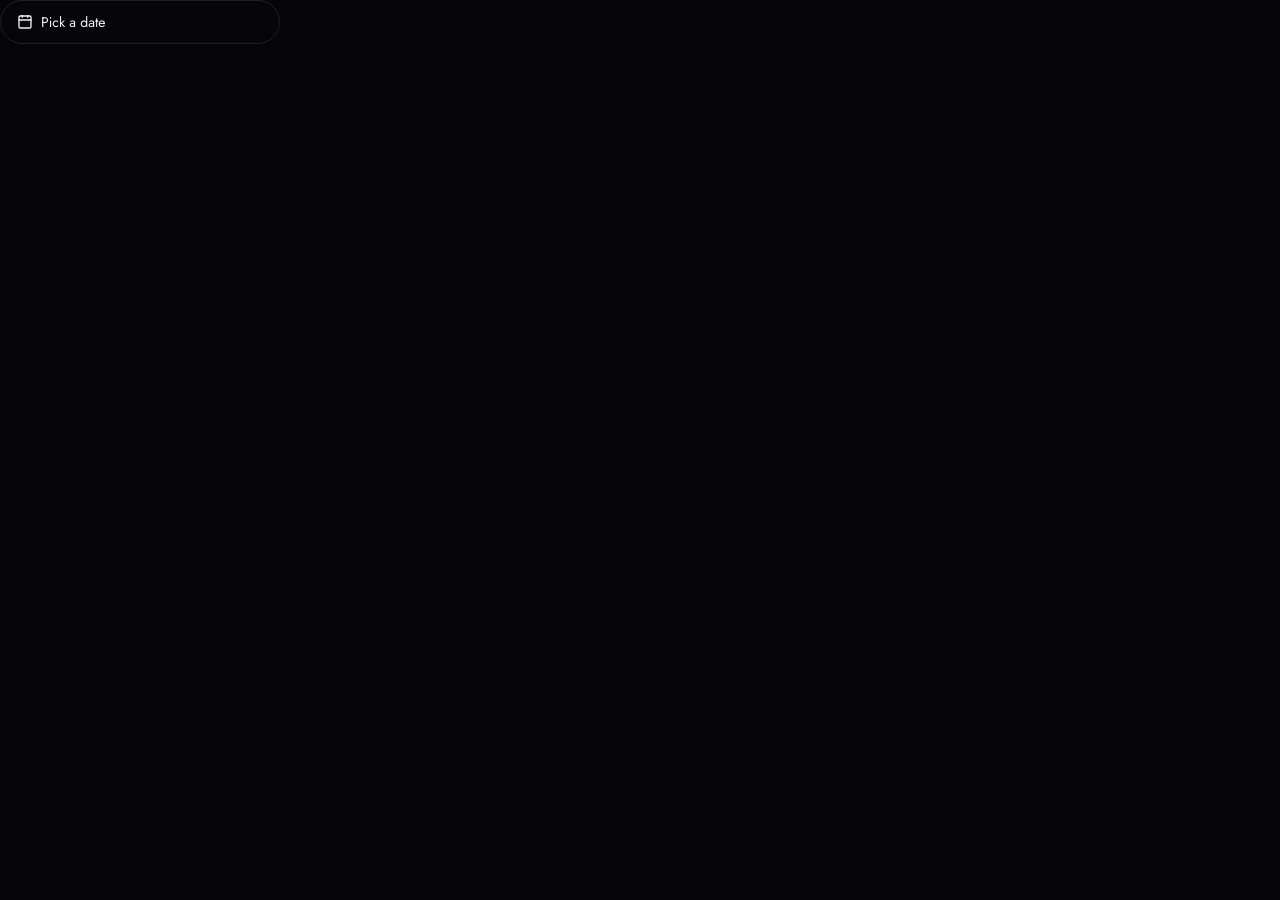
Test: DatePicker › clears back to blank in a fully controlled picker that started with no value
The width and height of the screenshot is (1280, 900).
Click the dropdown.
click(73, 22)  # box top-left (0, 0), bottom-right (280, 44)
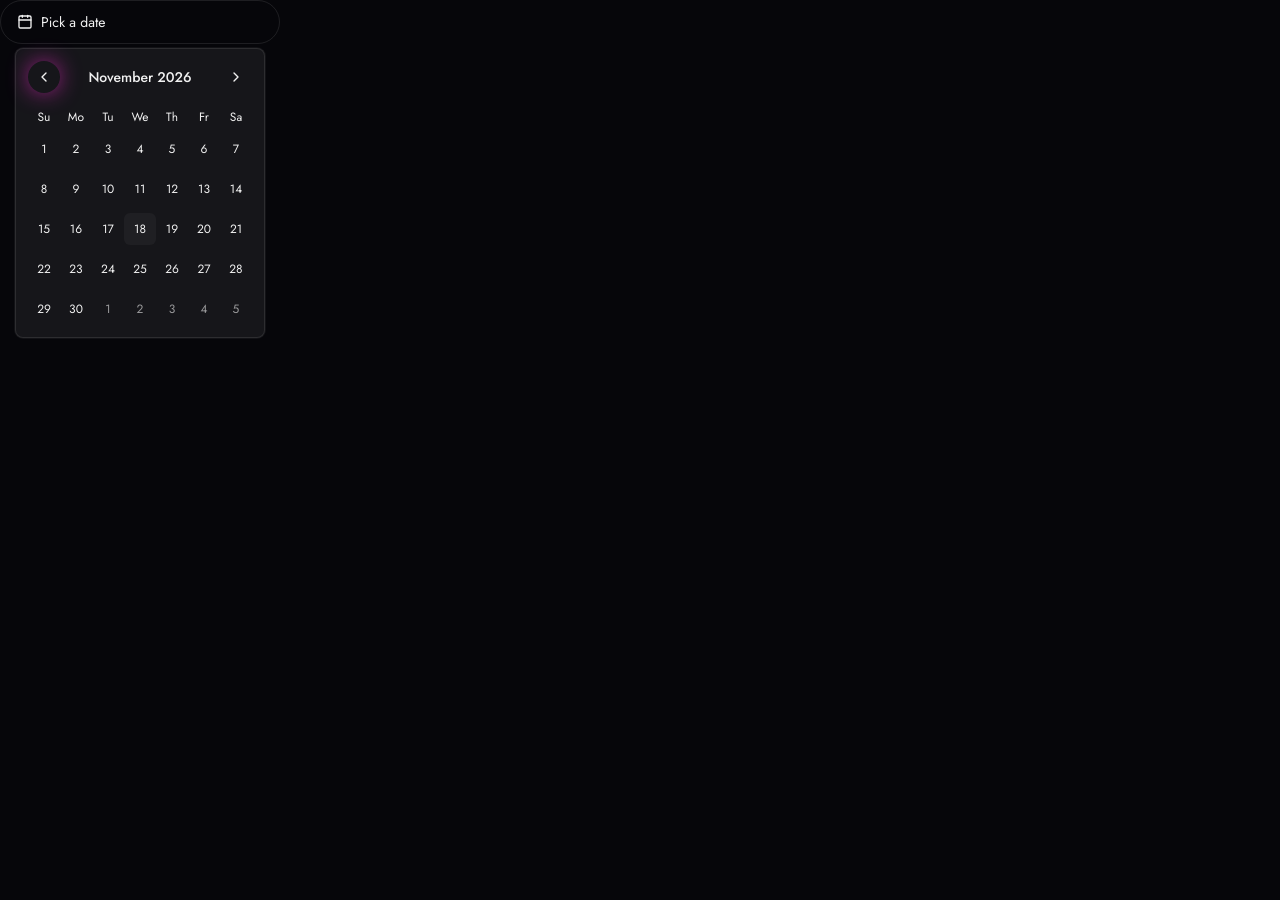
Click the button named "15th".
click(44, 229)  # box top-left (28, 213), bottom-right (60, 245)
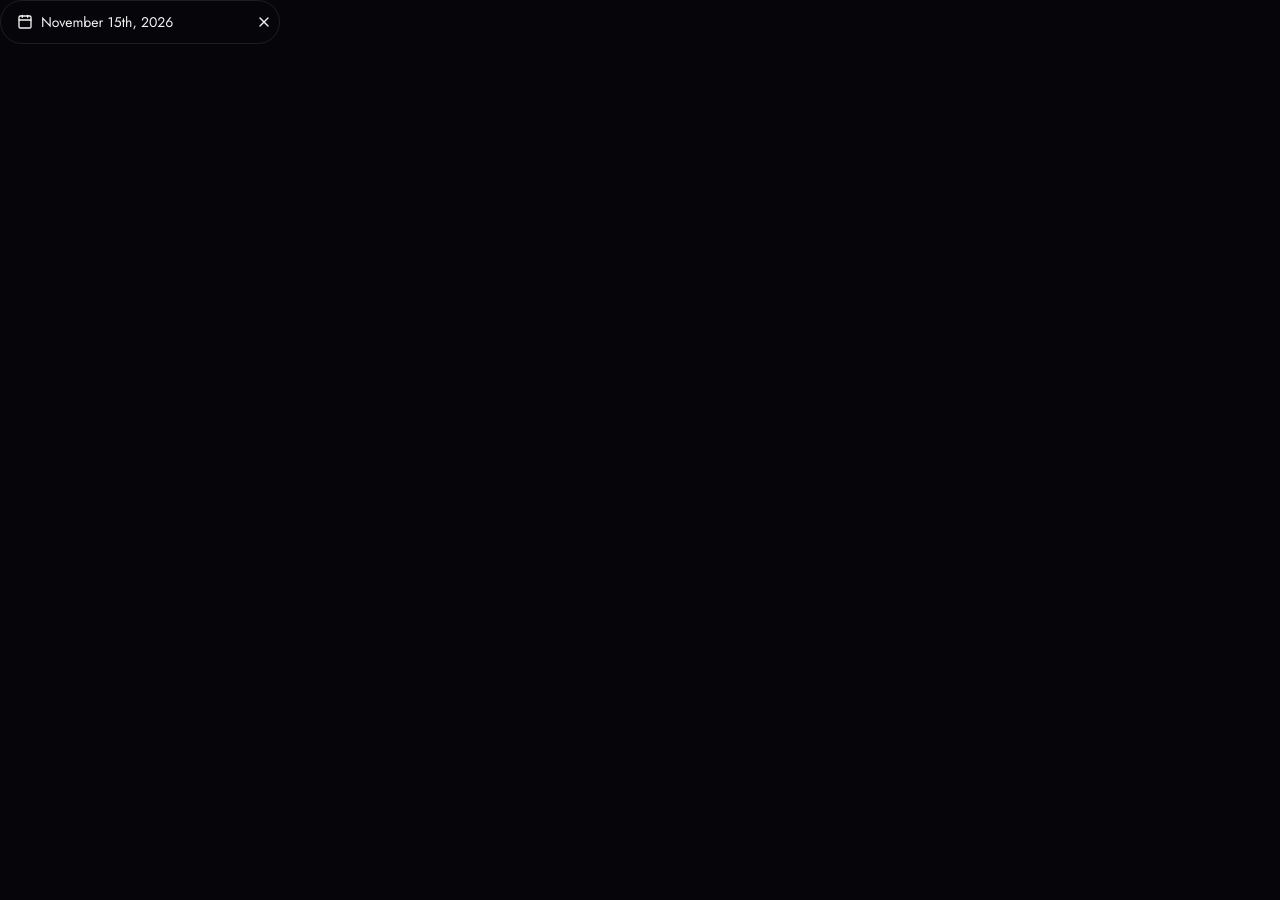
expect the dropdown no longer shows "Pick a date": met, box top-left (0, 0), bottom-right (280, 44)
Click the button named "clear date".
click(264, 22)  # box top-left (256, 14), bottom-right (272, 30)
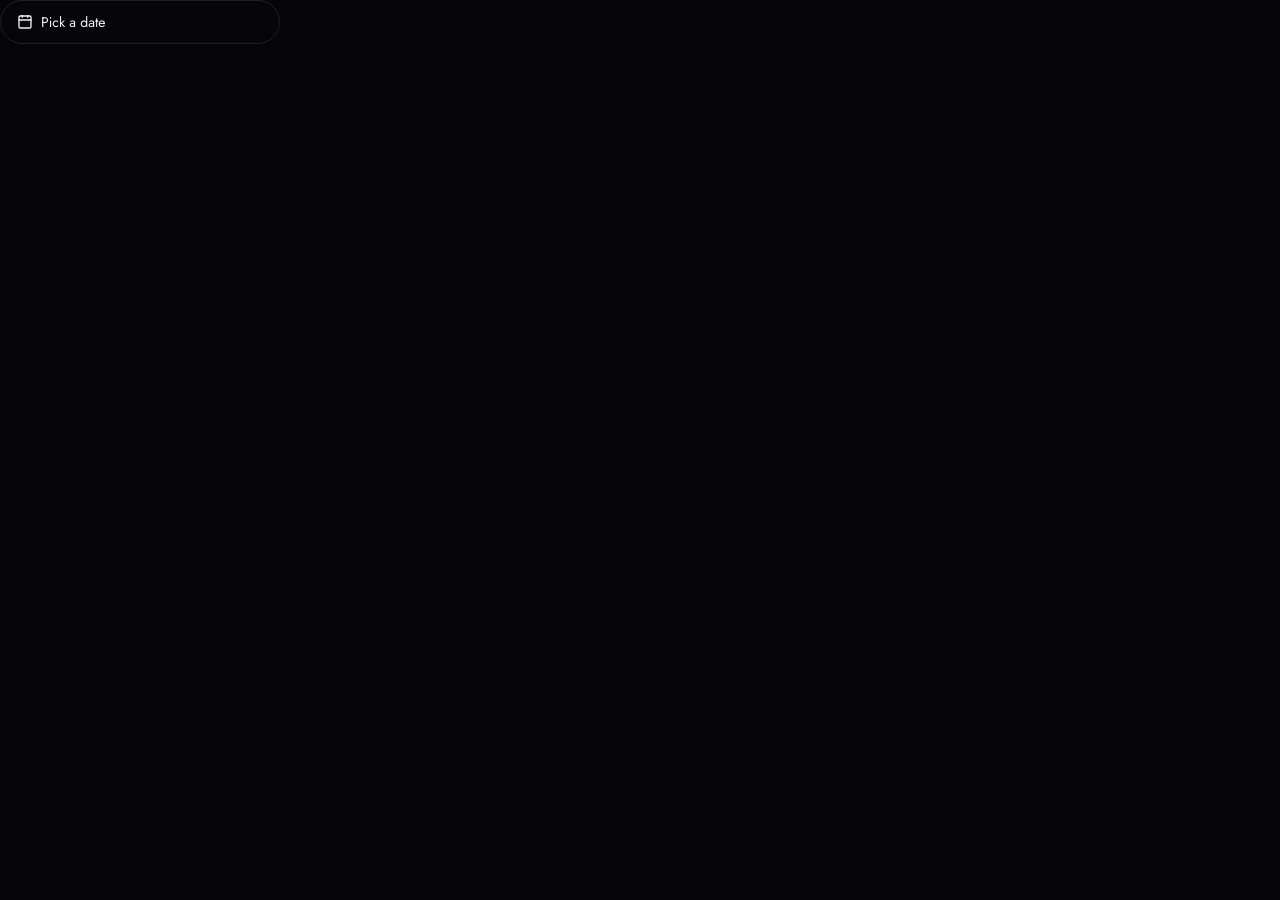
expect the dropdown reads "Pick a date": met, box top-left (0, 0), bottom-right (280, 44)
